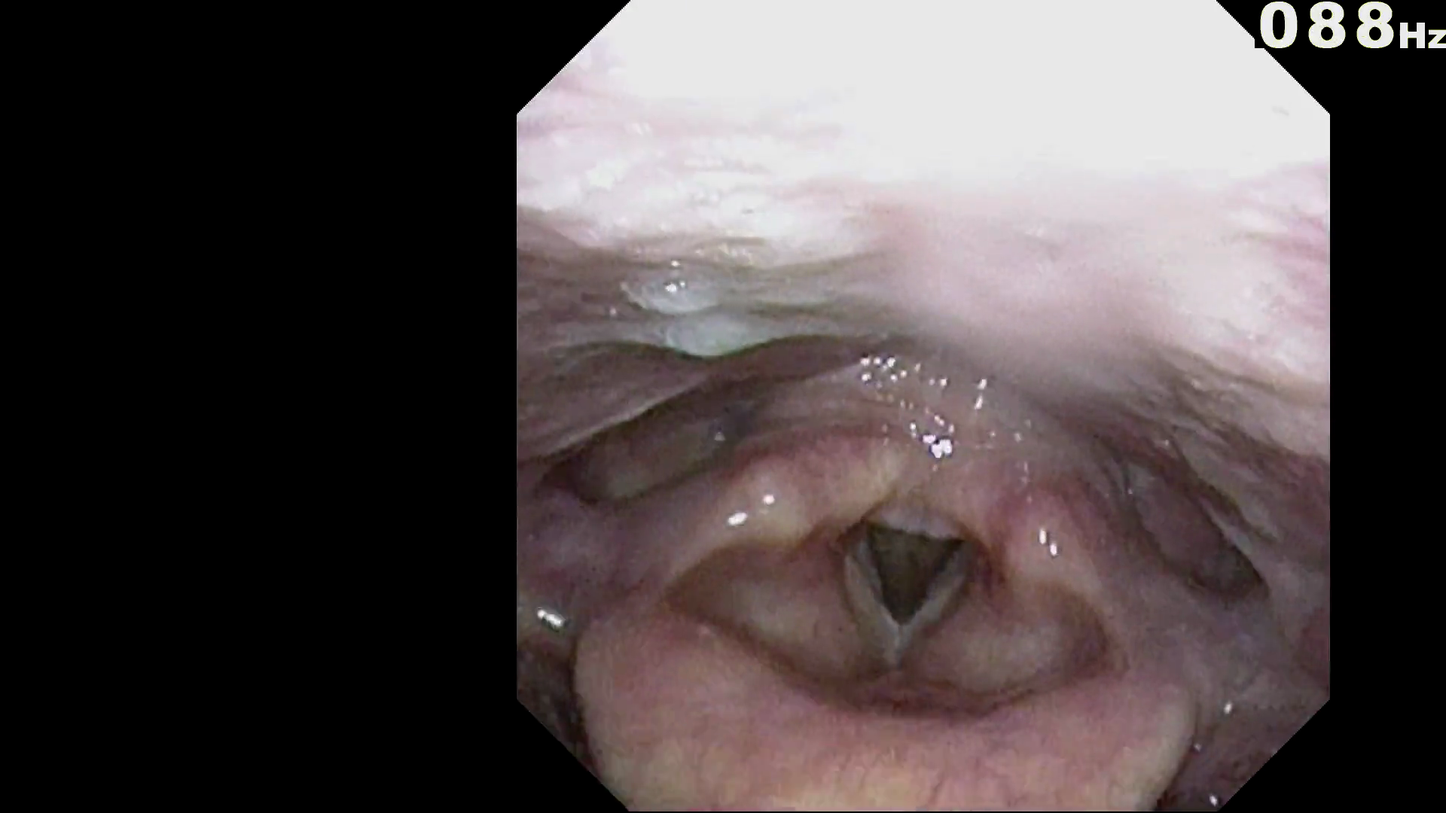epiglottis: (631, 670, 1190, 802)
trachea: (850, 516, 969, 650)
